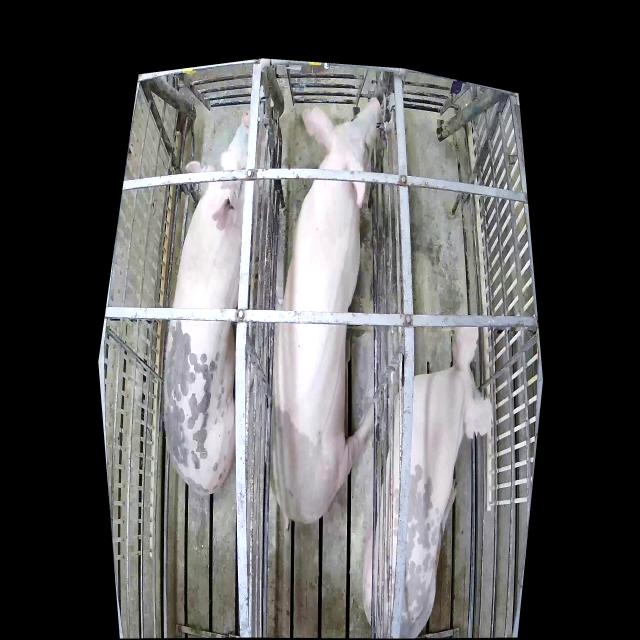pig: (268, 96, 382, 523), (363, 327, 492, 636), (165, 112, 261, 496)
